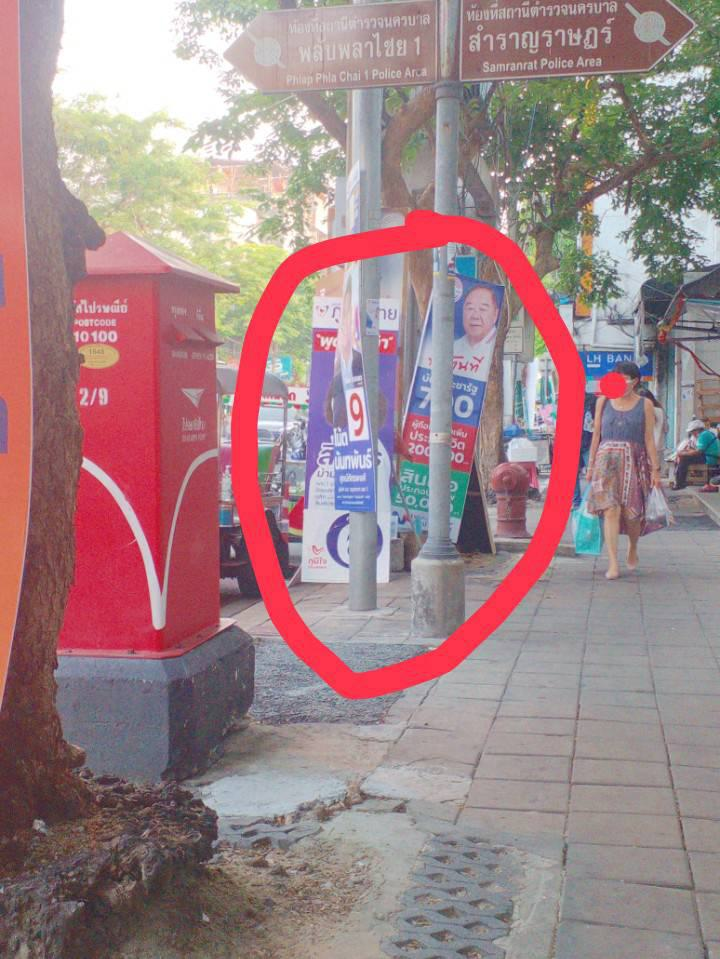Banner: (395, 266, 502, 536), (310, 297, 388, 585)
